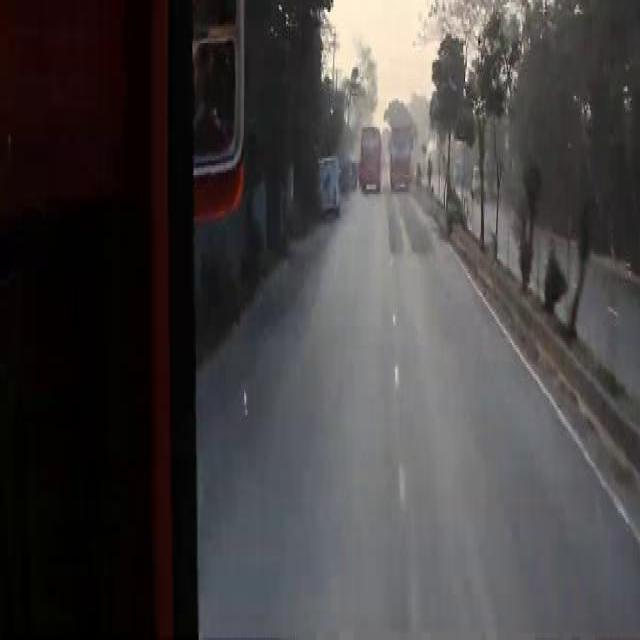11: (318, 155, 340, 217)
Truck: (388, 124, 414, 184), (360, 122, 380, 185)
